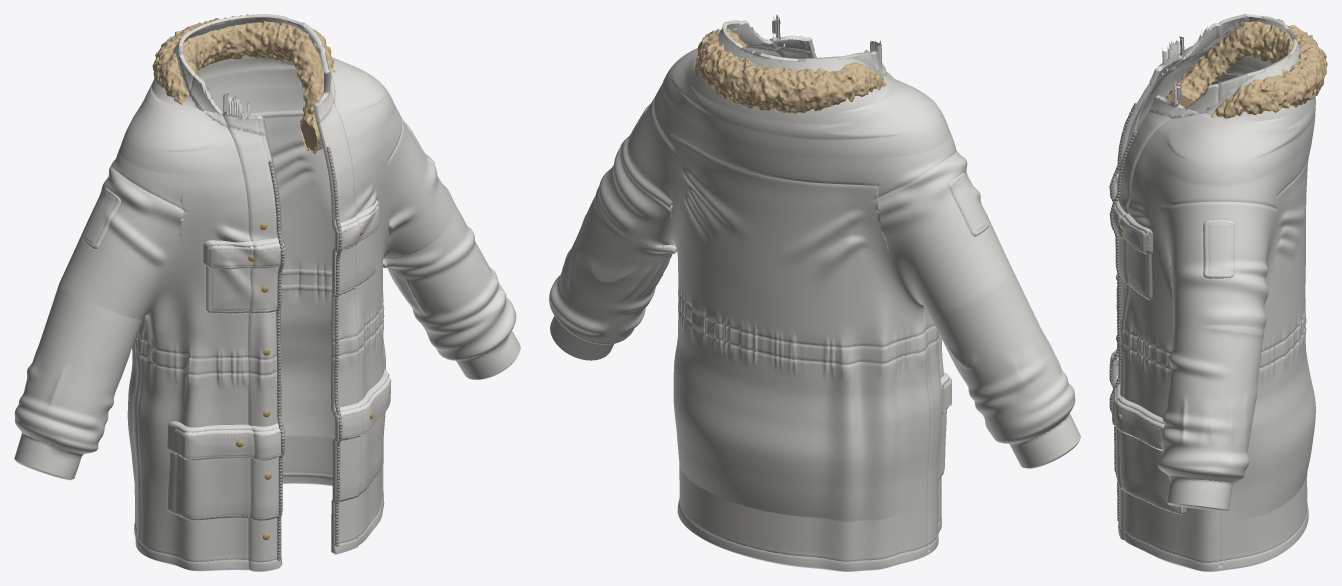
The model's file is 04_parka.glb.
3 renders of one model, left to right at view 1: azimuth 30°, elevation 25°; view 2: azimuth 150°, elevation 25°; view 3: azimuth 270°, elevation 25°, orthographic. The views are drawn at different scales.
Visible parts, largest first — view 1: body, trim, zipper; view 2: body, trim; view 3: body, trim, zipper.
Boxes of the visible parts, bbox=[...] form: body: bbox=[14, 14, 520, 571]; trim: bbox=[152, 14, 335, 154]; zipper: bbox=[268, 146, 342, 560]; body: bbox=[549, 14, 1080, 571]; trim: bbox=[696, 28, 886, 113]; body: bbox=[1109, 14, 1315, 571]; trim: bbox=[1165, 19, 1327, 118]; zipper: bbox=[1109, 102, 1136, 521].
Size of the model in its own units: 1.01 by 0.9334 by 0.3884.
